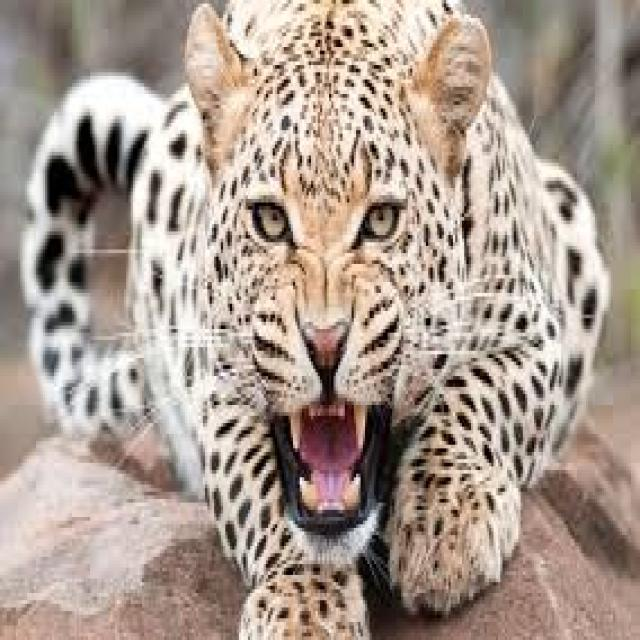Jaguar: (22, 0, 613, 640)
